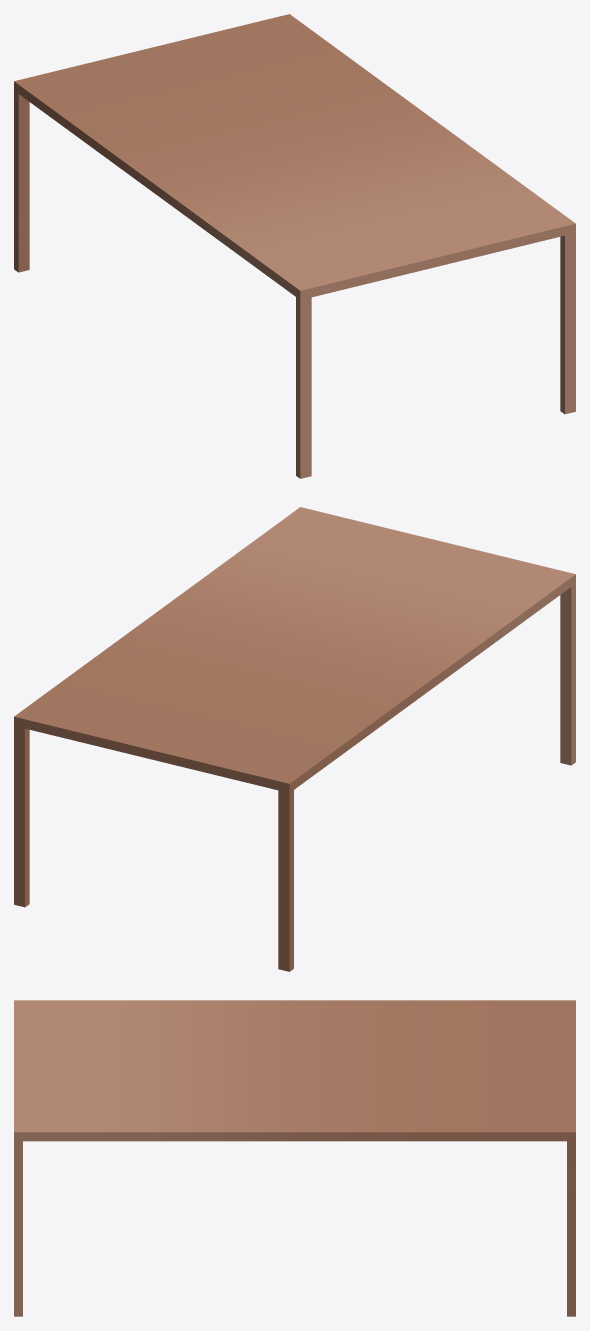
File: table.fbx
The picture shows the model from 3 angles, top to bottom: view 1: azimuth 30°, elevation 25°; view 2: azimuth 150°, elevation 25°; view 3: azimuth 270°, elevation 25°; orthographic projection.
Parts seen in each view (by area): view 1: Cube.108; view 2: Cube.108; view 3: Cube.108.
Boxes of the visible parts, x1,y1,x2,y2 form: Cube.108: (14,14,575,478); Cube.108: (14,507,575,971); Cube.108: (14,1000,575,1316).
Bounding box in the file's own units: 125 × 225 × 81.51.
